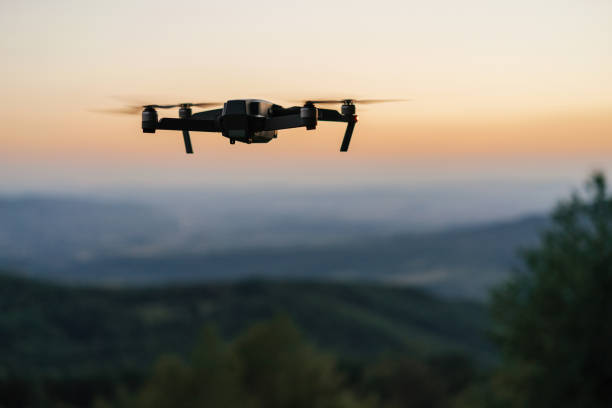Drone: (85, 93, 412, 161)
